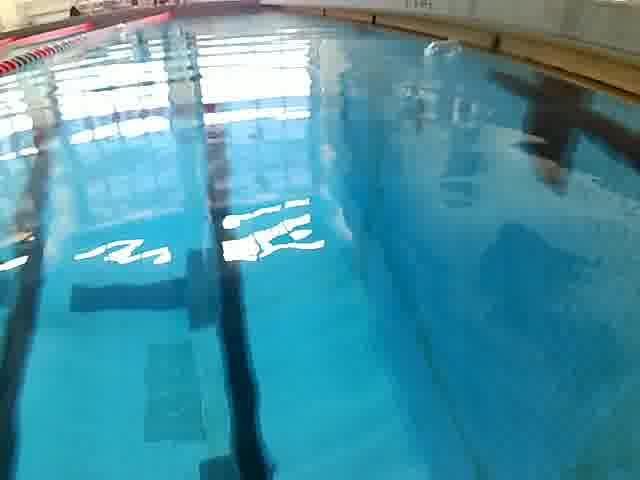Bottle: (419, 38, 466, 61)
